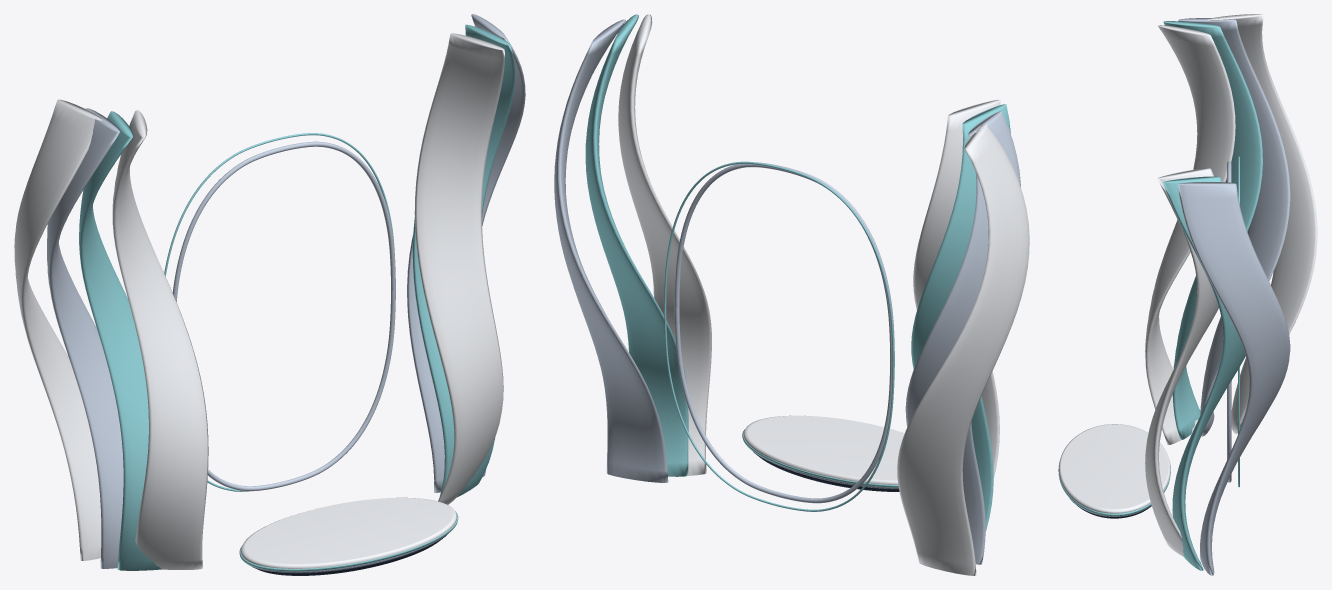
File: studio.glb
The picture shows the model from 3 angles, left to right: view 1: azimuth 30°, elevation 25°; view 2: azimuth 150°, elevation 25°; view 3: azimuth 270°, elevation 25°; orthographic projection. The views are drawn at different scales.
Visible parts, largest first — view 1: Wing_porcelain, Wing_lens, Wing_alloy, Dais_porcelain, Mirror_alloy, Mirror_lens, Dais_lens, Dais_graphite; view 2: Wing_porcelain, Wing_alloy, Wing_lens, Dais_porcelain, Mirror_alloy, Mirror_lens; view 3: Wing_porcelain, Wing_alloy, Wing_lens, Dais_porcelain, Mirror_alloy, Dais_lens.
Part boxes in pixels (left/top/right/bottom): Wing_porcelain: left=14, top=33, right=504, bottom=569; Wing_lens: left=79, top=24, right=515, bottom=570; Wing_alloy: left=47, top=14, right=525, bottom=568; Dais_porcelain: left=240, top=497, right=457, bottom=568; Mirror_alloy: left=172, top=141, right=395, bottom=491; Mirror_lens: left=164, top=133, right=394, bottom=491; Dais_lens: left=239, top=511, right=458, bottom=571; Dais_graphite: left=252, top=535, right=446, bottom=575; Wing_porcelain: left=618, top=14, right=1029, bottom=575; Wing_alloy: left=554, top=19, right=1020, bottom=564; Wing_lens: left=585, top=14, right=1010, bottom=531; Dais_porcelain: left=743, top=415, right=904, bottom=484; Mirror_alloy: left=674, top=162, right=894, bottom=503; Mirror_lens: left=664, top=161, right=894, bottom=511; Wing_porcelain: left=1145, top=14, right=1317, bottom=562; Wing_alloy: left=1178, top=18, right=1290, bottom=575; Wing_lens: left=1163, top=21, right=1262, bottom=570; Dais_porcelain: left=1058, top=424, right=1170, bottom=513; Mirror_alloy: left=1227, top=161, right=1231, bottom=482; Dais_lens: left=1058, top=460, right=1170, bottom=516.
Size of the model in its own units: 3.98 by 3.55 by 2.13.
